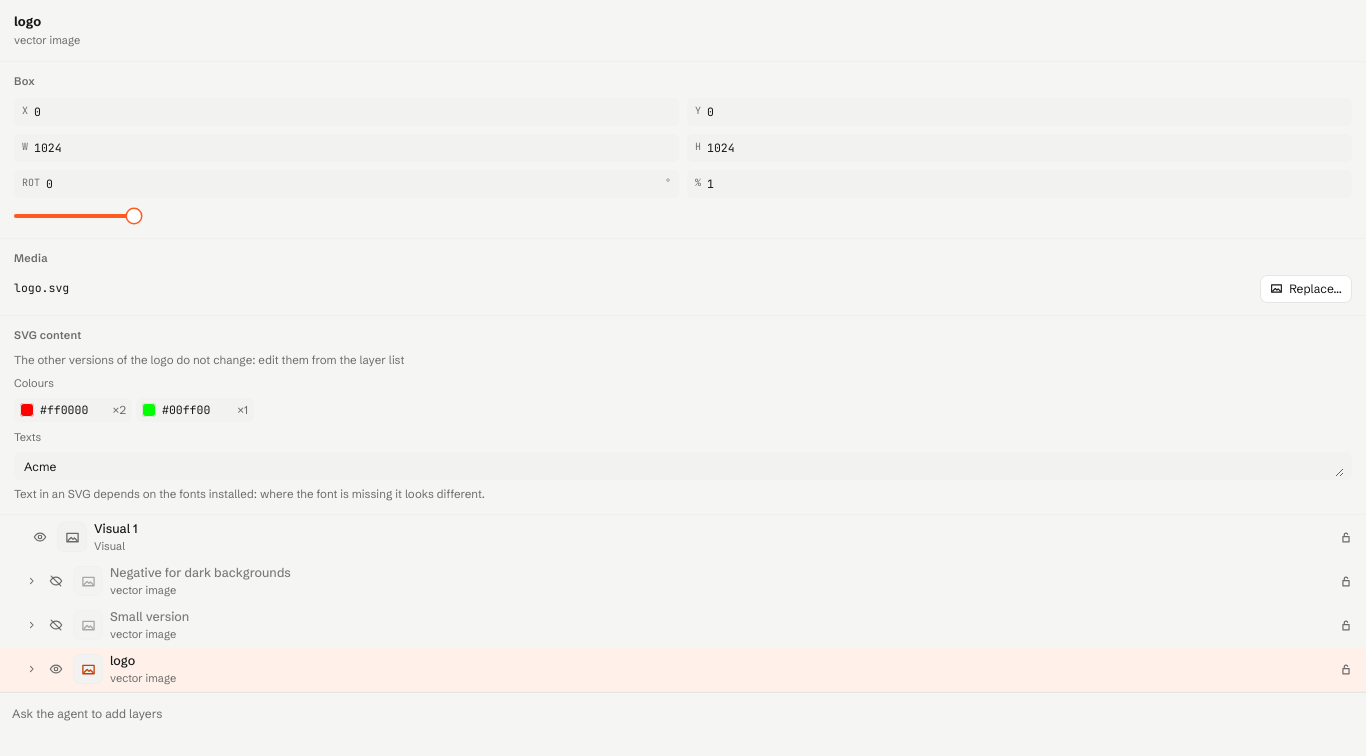
Test: the SVG content section › reads the clip SVG through the core and lists its colours with their counts and its texts; the elements are in the layers tree
The width and height of the screenshot is (1366, 756).
Expected: the button with aria-label "#ff0000, used 2 times" is shown, 14,398 -> 132,422
Expected: the button with aria-label "#00ff00, used 1 time" is shown, 136,398 -> 254,422
Click the button named "Show the elements of logo" at (32, 669), box 24,657 -> 40,681
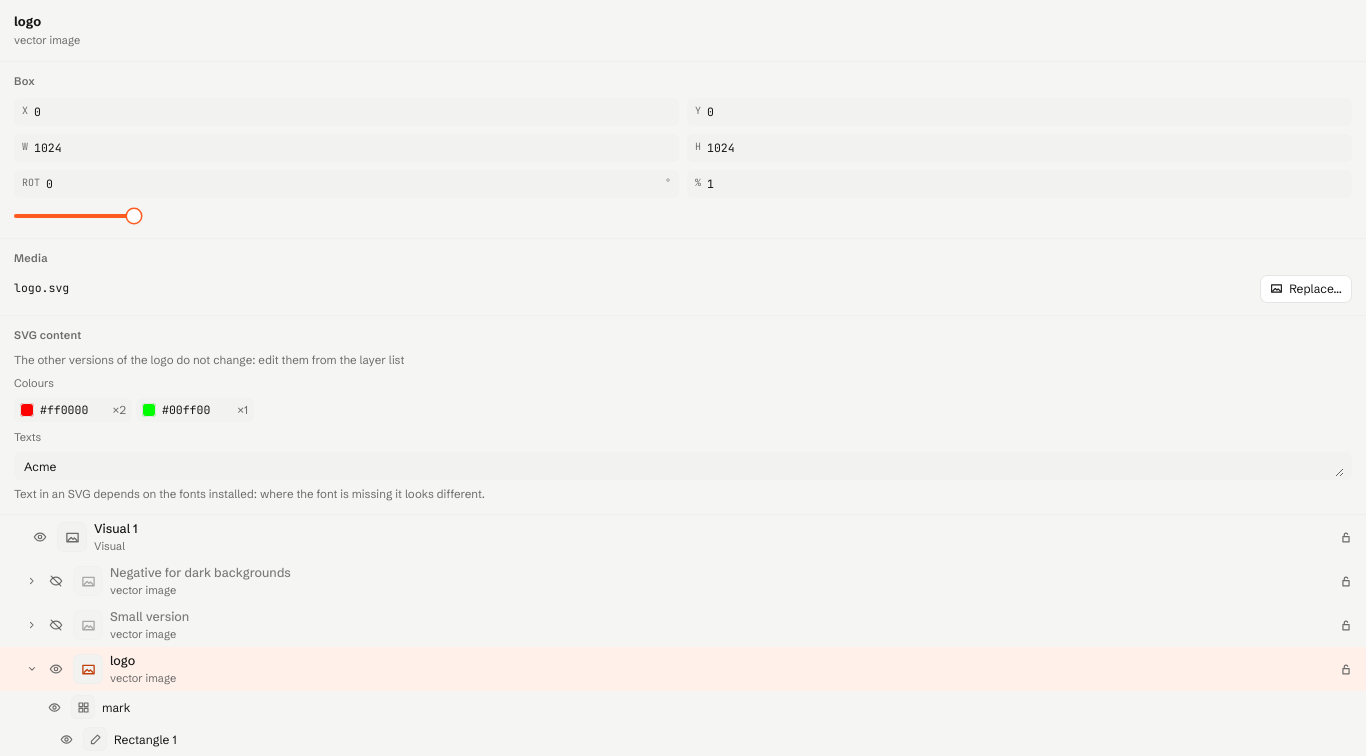
Expected: the button named "Hide the elements of logo" is expanded, 24,657 -> 40,681
